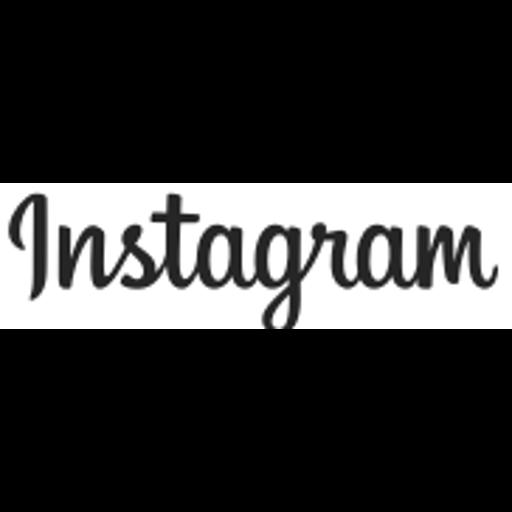Instagram: (0, 183, 512, 329)
